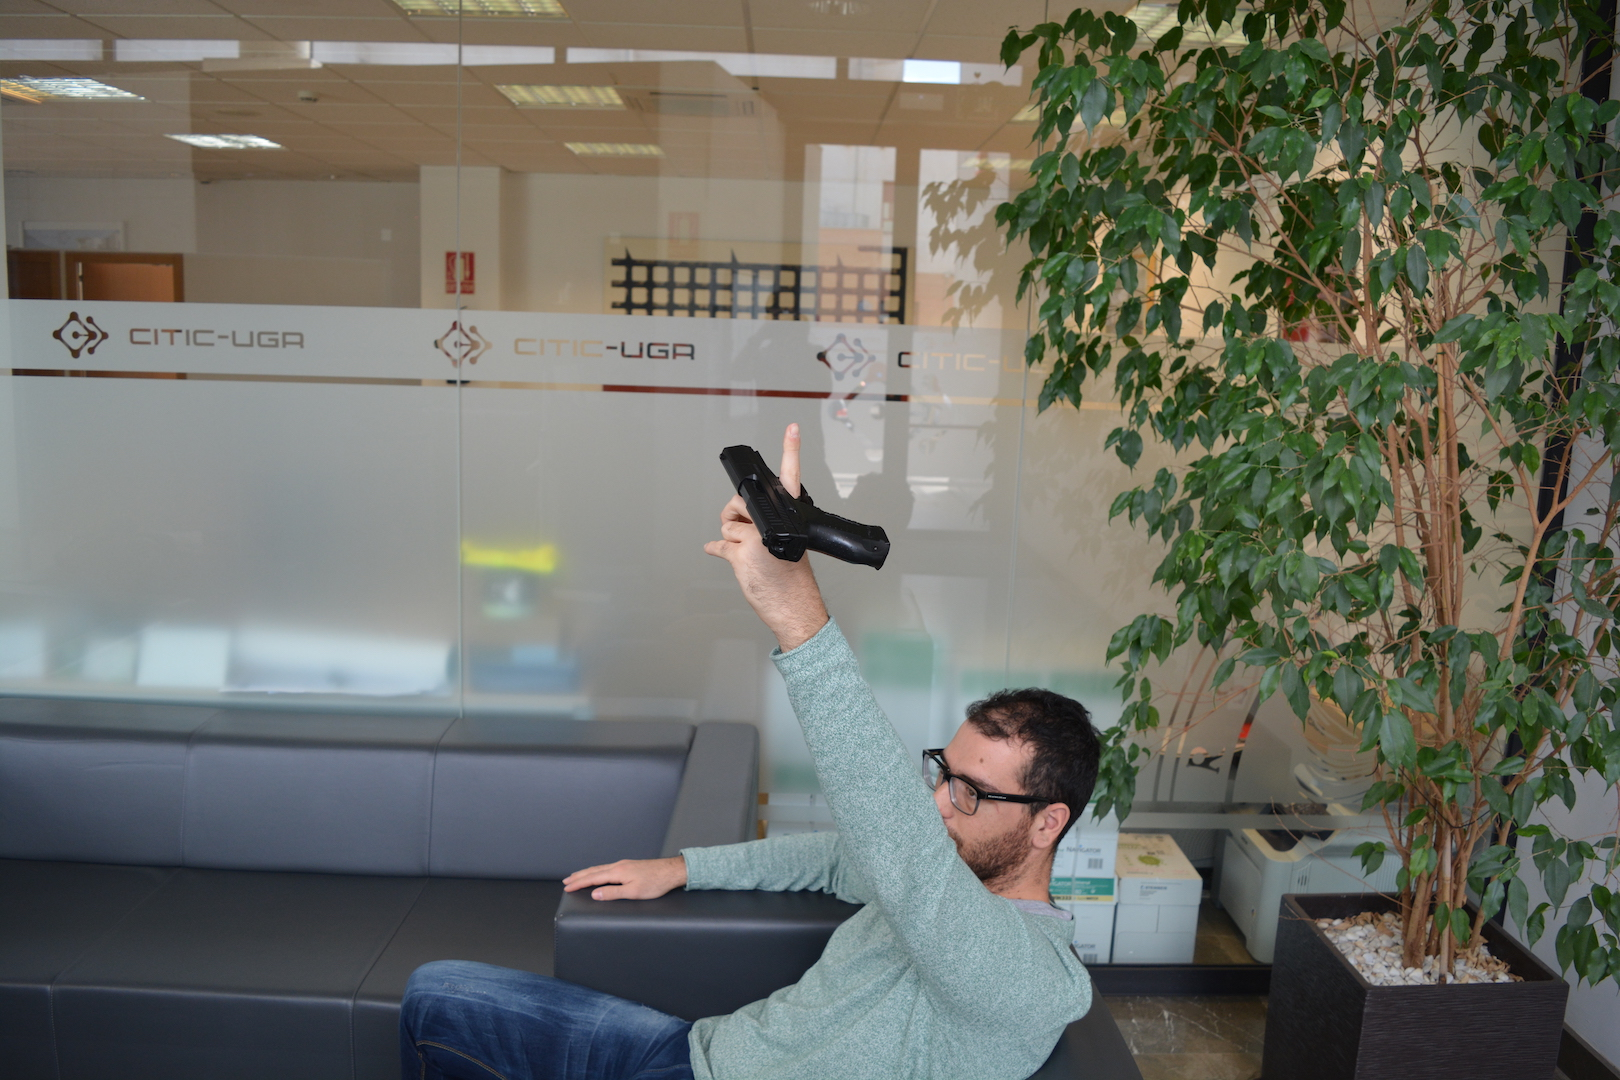pistol: (720, 444, 891, 573)
